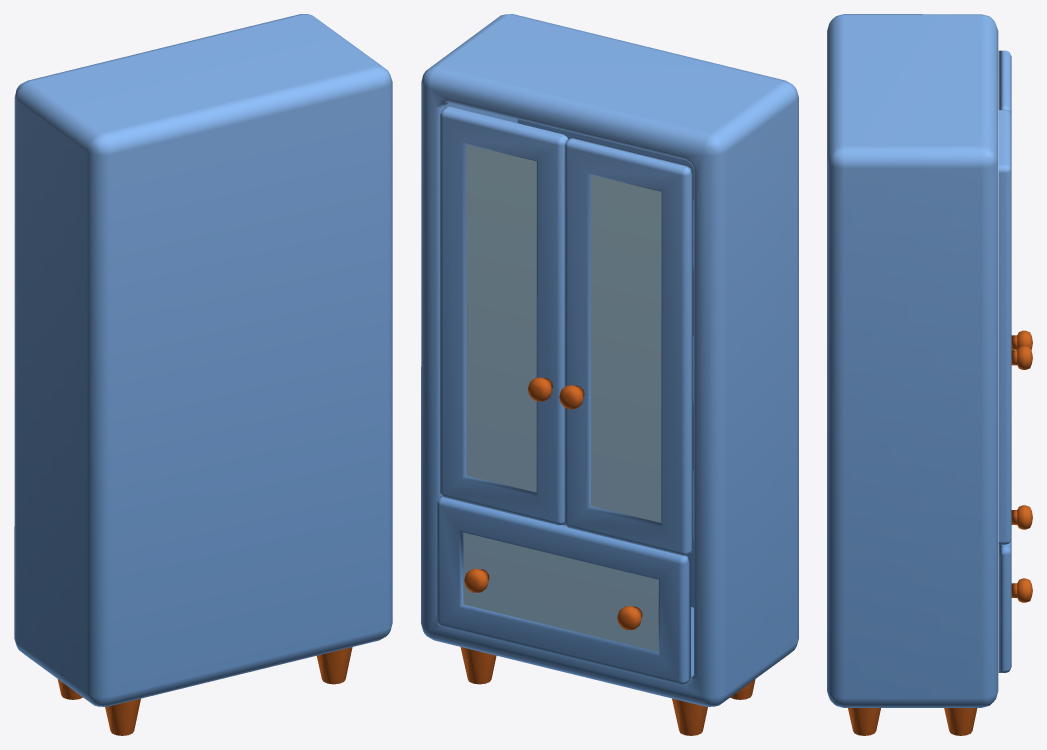
Rendered from Cubbed.fbx.
The picture shows the model from 3 angles, left to right: view 1: azimuth 30°, elevation 25°; view 2: azimuth 150°, elevation 25°; view 3: azimuth 270°, elevation 25°; orthographic projection. The views are drawn at different scales.
Visible parts, largest first — view 1: Closet_06; view 2: Closet_06; view 3: Closet_06.
Part boxes in pixels (<box>): Closet_06: <box>14,14,392,735</box>; Closet_06: <box>421,14,798,735</box>; Closet_06: <box>827,14,1032,735</box>.
Size of the model in its own units: 200 by 388 by 120.
1 material, 1 textured.
